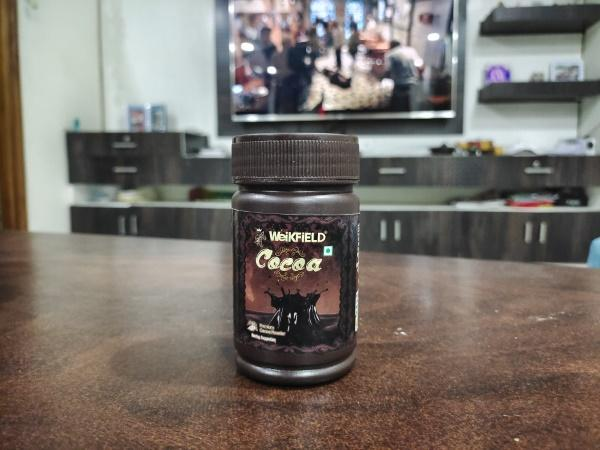Cocoa Powder: (212, 117, 382, 401)
